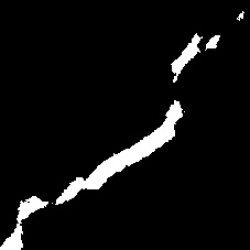crack: (55, 104, 185, 204), (3, 198, 48, 245), (171, 34, 203, 83), (207, 36, 223, 49)
pinhole: (231, 9, 248, 29)
